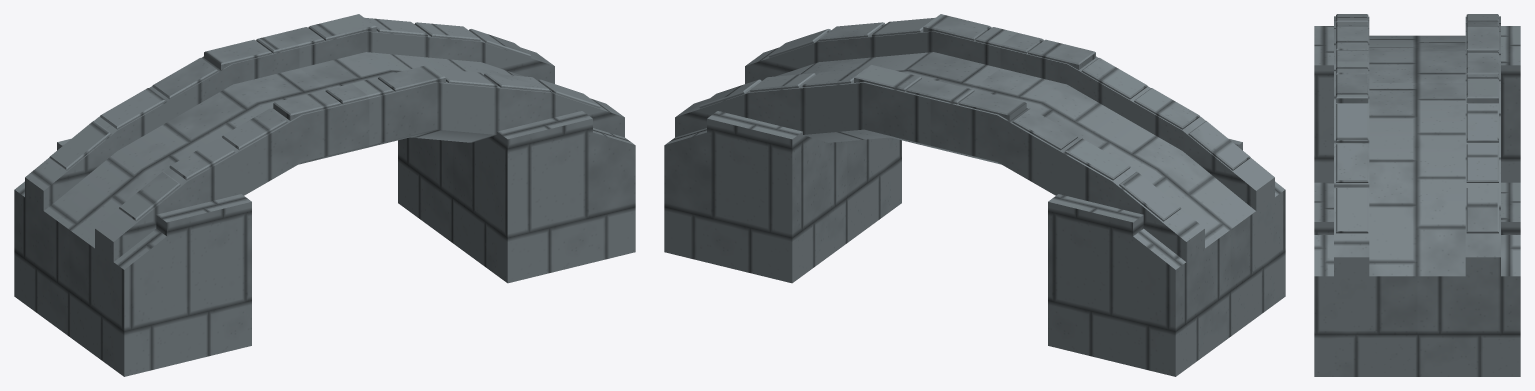
Rendered from medieval-bridge.glb.
The picture shows the model from 3 angles, left to right: view 1: azimuth 30°, elevation 25°; view 2: azimuth 150°, elevation 25°; view 3: azimuth 270°, elevation 25°; orthographic projection. The views are drawn at different scales.
Visible parts, largest first — view 1: bridge; view 2: bridge; view 3: bridge.
Boxes of the visible parts, x1=… form: bridge: x1=14, y1=14, x2=635, y2=376; bridge: x1=664, y1=14, x2=1285, y2=376; bridge: x1=1314, y1=14, x2=1520, y2=376.
Size of the model in its own units: 2 by 0.7868 by 0.7438.
Materials: 1 (1 with a texture image).
